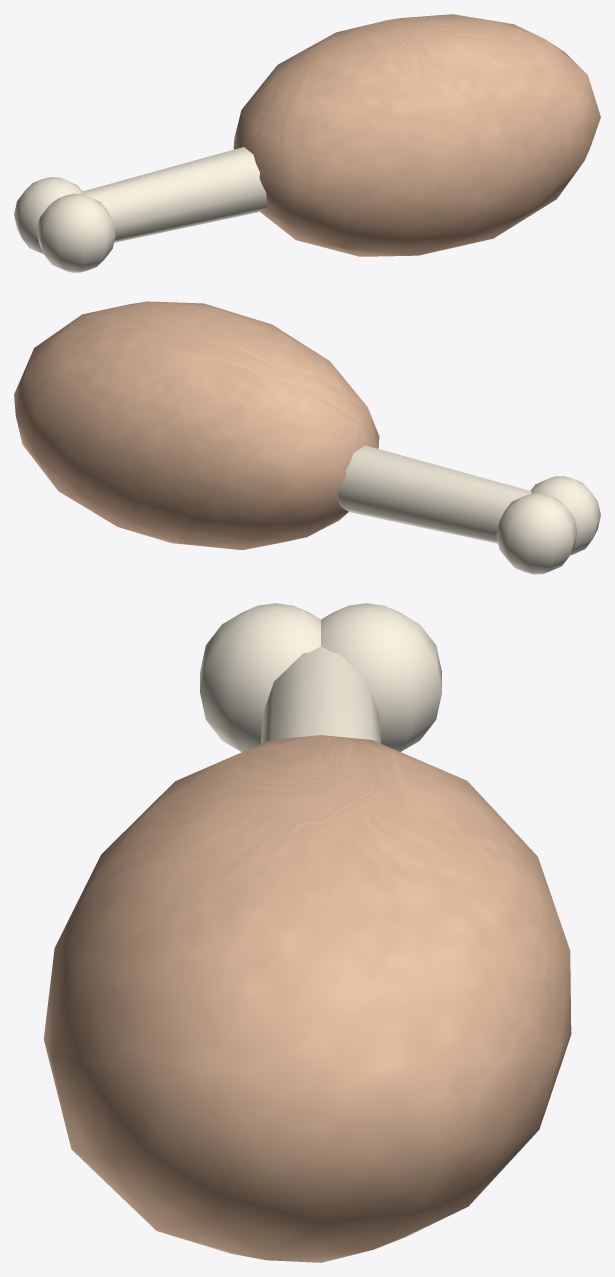
Rendered from raw_chicken.glb.
The picture shows the model from 3 angles, top to bottom: view 1: azimuth 30°, elevation 25°; view 2: azimuth 150°, elevation 25°; view 3: azimuth 270°, elevation 25°; orthographic projection. The views are drawn at different scales.
Parts seen in each view (by area): view 1: raw_chicken; view 2: raw_chicken; view 3: raw_chicken.
Part boxes in pixels (left/top/right/bottom): raw_chicken: left=14, top=14, right=600, bottom=272; raw_chicken: left=14, top=301, right=600, bottom=574; raw_chicken: left=43, top=603, right=571, bottom=1262.
Bounding box in the file's own units: 0.2229 × 0.0788 × 0.0929.
2 materials, 1 textured.
